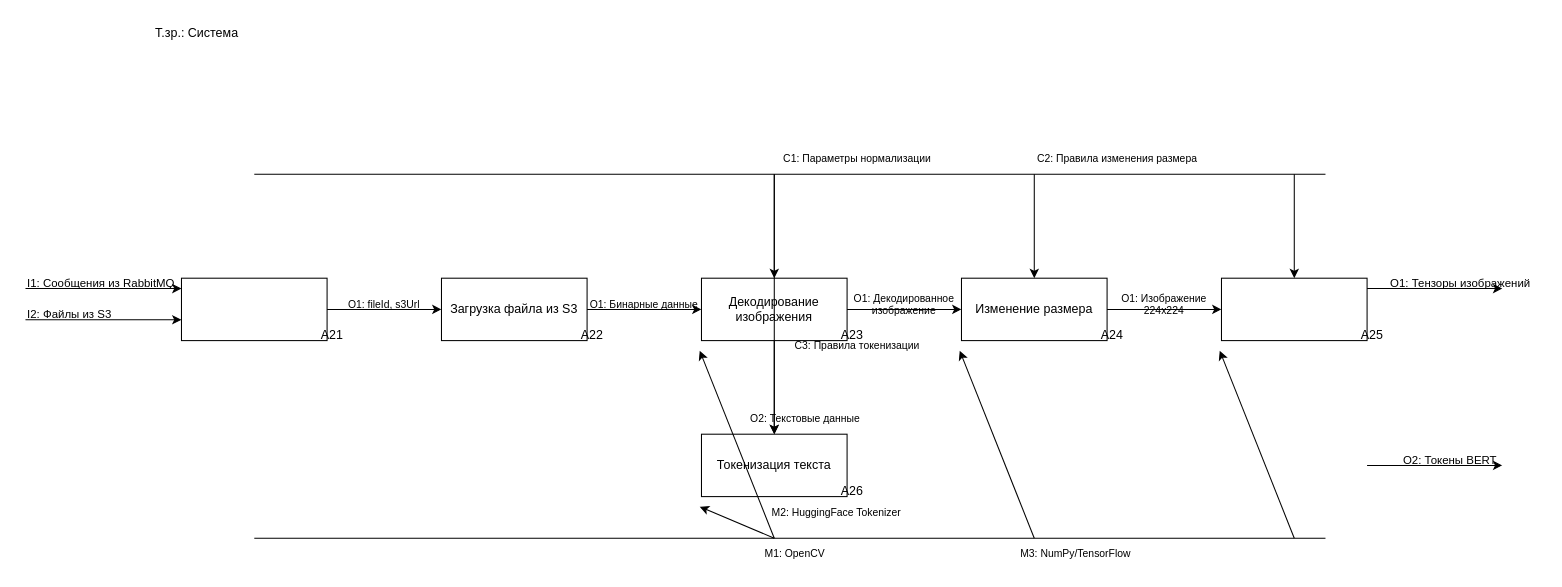
The diagram is 1562 pixels wide and 587 high, and some of its shapes have lost their labels. Each missing label, with the box of its shape:
Нормализация: (1220, 277, 1367, 341)
Получение сообщения: (180, 277, 327, 341)
